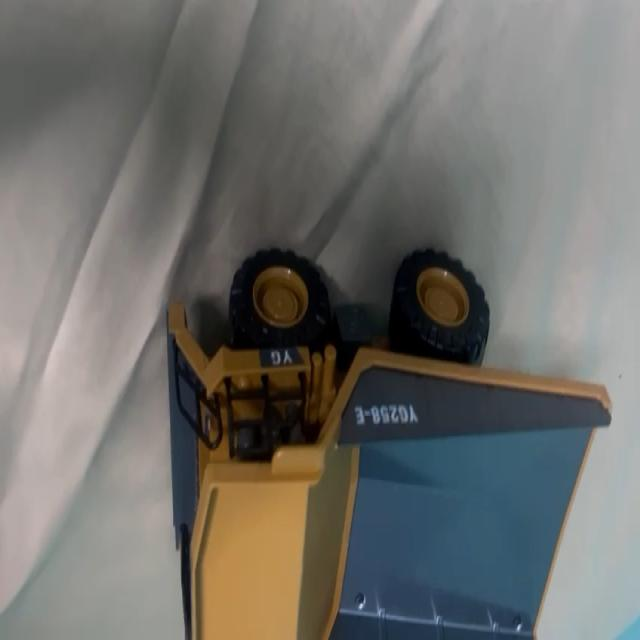dump_truck: (168, 248, 610, 640)
